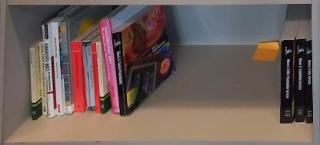book-spine: (99, 19, 120, 115), (112, 32, 129, 116), (51, 22, 64, 116), (280, 40, 294, 123), (42, 24, 54, 119), (60, 22, 72, 115), (71, 42, 84, 113), (295, 39, 305, 123), (96, 42, 106, 114), (91, 43, 101, 114), (305, 40, 313, 124), (39, 41, 47, 117), (87, 44, 96, 110), (82, 43, 90, 111), (30, 48, 36, 121)
